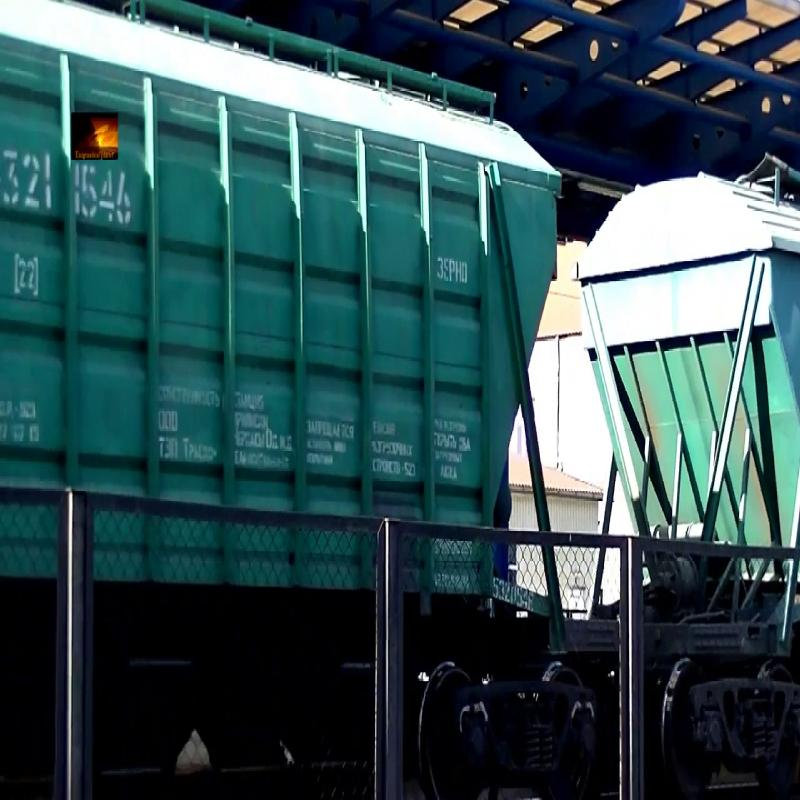train: (4, 7, 594, 778), (609, 9, 800, 781)
